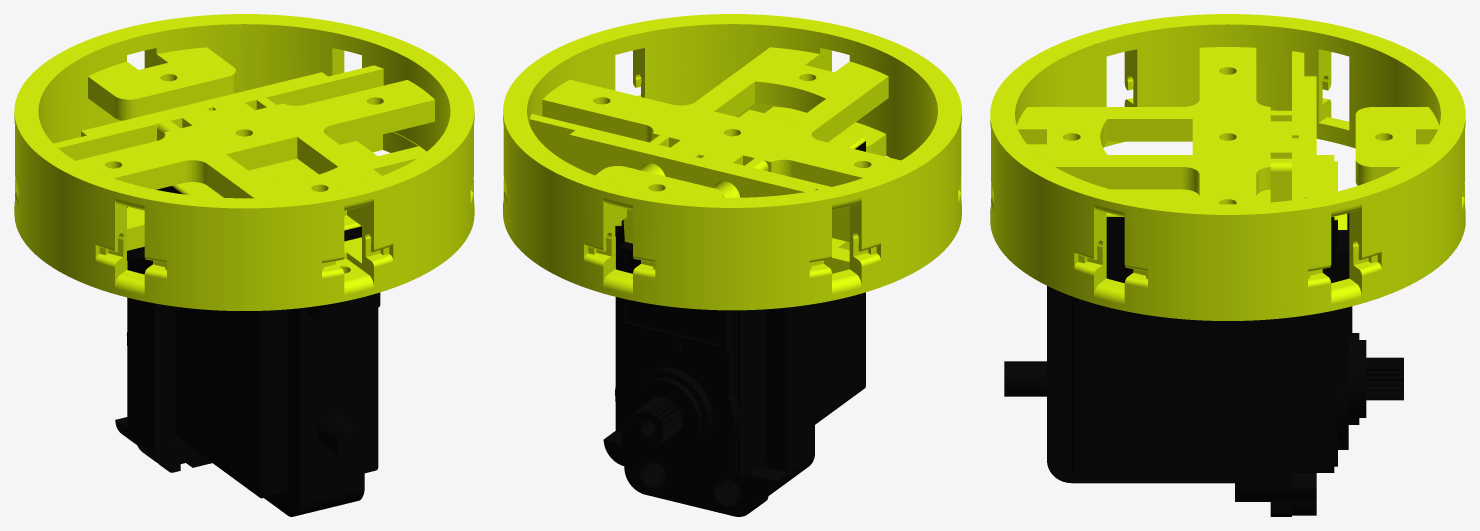
File: end_module.dae
3 views of the same model, side by side, from view 1: azimuth 30°, elevation 25°; view 2: azimuth 150°, elevation 25°; view 3: azimuth 270°, elevation 25° (orthographic). The views are drawn at different scales.
Visible parts, largest first — view 1: End_Module; view 2: End_Module; view 3: End_Module.
Part boxes in pixels (x1=…): End_Module: x1=14, y1=14, x2=474, y2=516; End_Module: x1=503, y1=14, x2=961, y2=516; End_Module: x1=990, y1=14, x2=1465, y2=516.
Bounding box in the file's own units: 0.067 × 0.067 × 0.0585.
